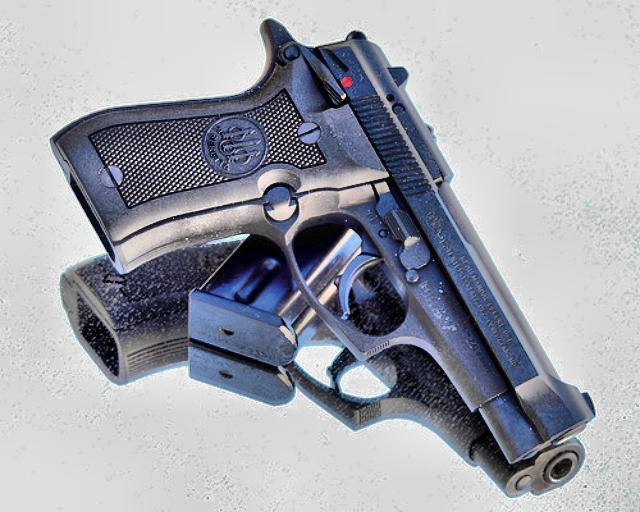pistol: (45, 12, 591, 494)
